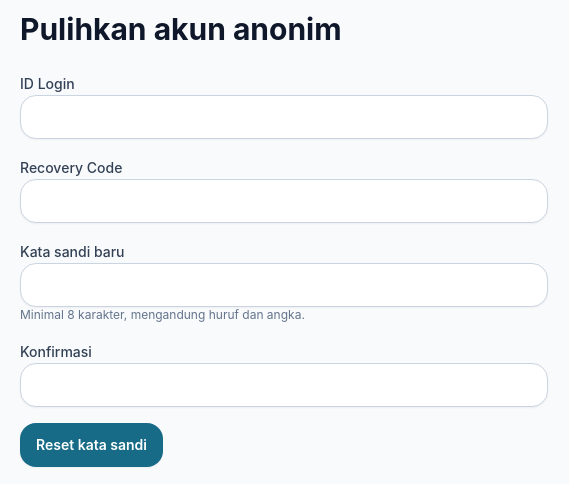
Test: recovery flow replaces the code and uses a neutral error message on failure
Step 1. Type "SC-ABCD-EFGH-IJKL" into the field labelled "ID Login" → {"x": 284, "y": 117}, box left=20, top=95, right=548, bottom=139
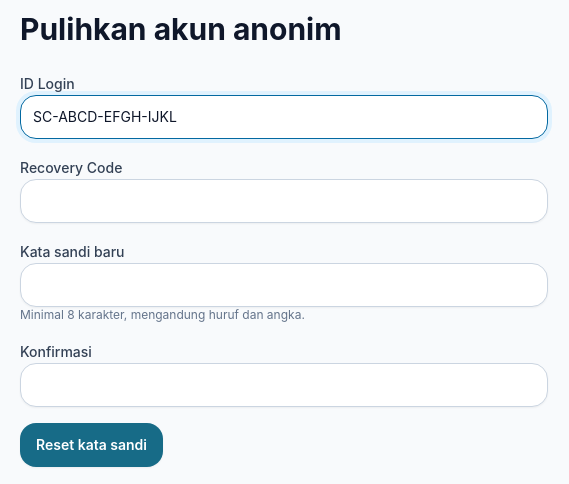
Step 2. Type "ABCDE-FGHIJ-KLMNP-QRSTU" into the field labelled "Recovery Code" → {"x": 284, "y": 201}, box left=20, top=179, right=548, bottom=223
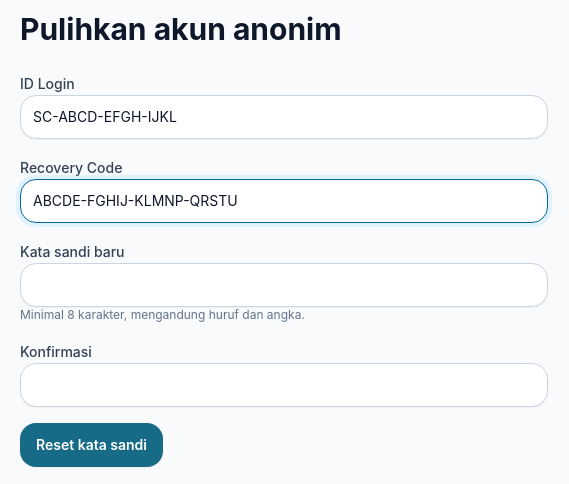
Step 3. Type "Anonim-baru-2026" into the password field labelled "Kata sandi baru" → {"x": 284, "y": 285}, box left=20, top=263, right=548, bottom=307
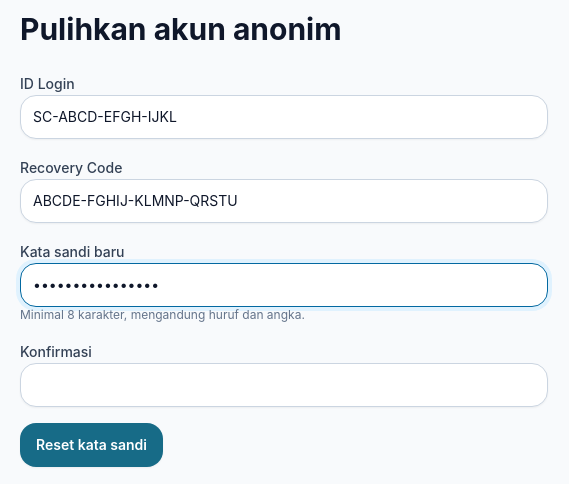
Step 4. Type "Anonim-baru-2026" into the password field labelled "Konfirmasi" → {"x": 284, "y": 385}, box left=20, top=363, right=548, bottom=407
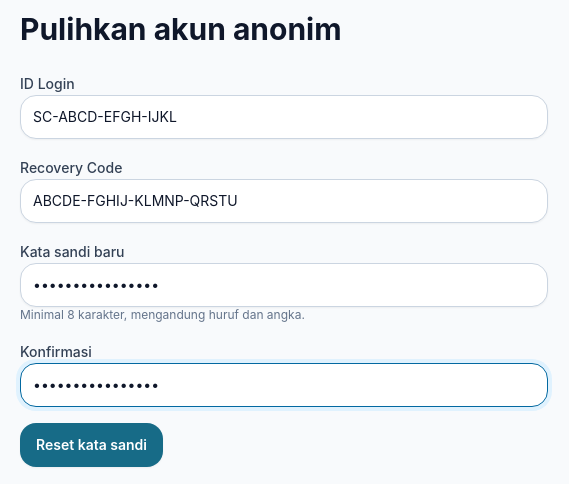
Step 5. Click the button "Reset kata sandi" → {"x": 92, "y": 445}, box left=20, top=423, right=163, bottom=467
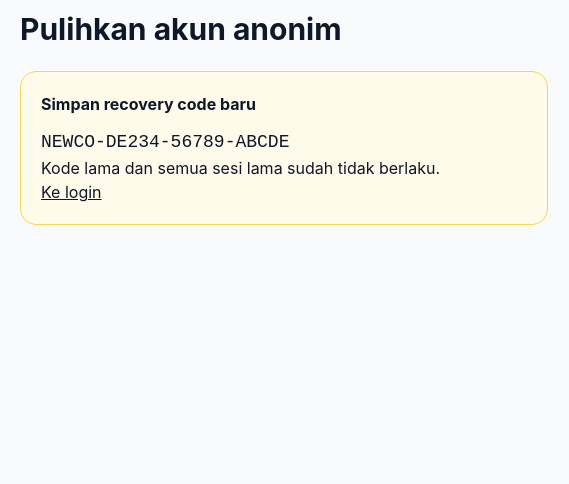
Result: the heading "Simpan recovery code baru" is shown at left=41, top=94, right=256, bottom=114
